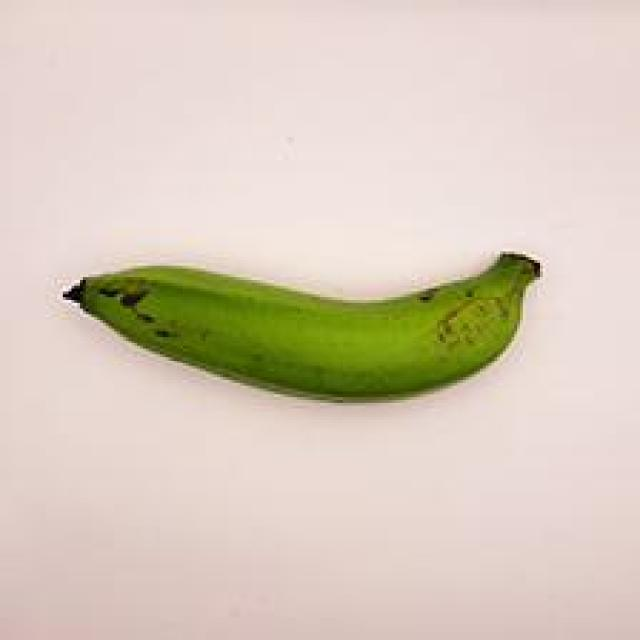Raw: (62, 218, 556, 442)
